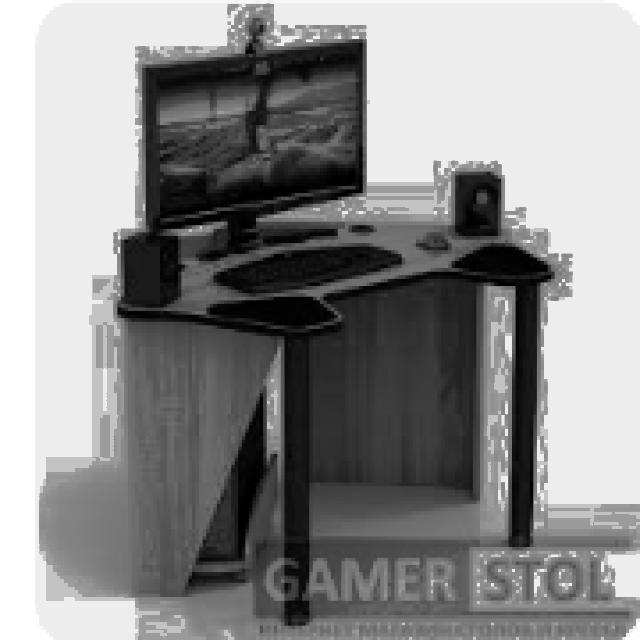table: (113, 218, 554, 626)
